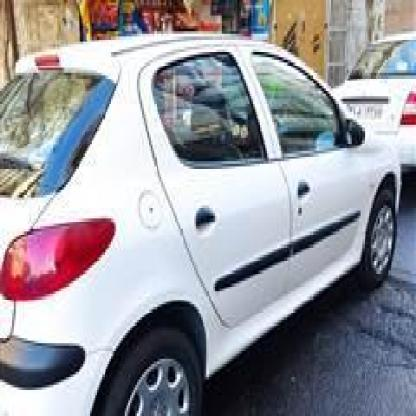Car: (0, 29, 404, 384), (334, 31, 416, 163)
